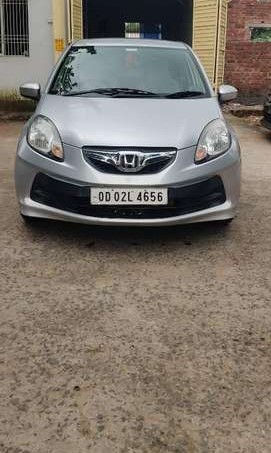OD02L4656: (89, 187, 168, 205)
